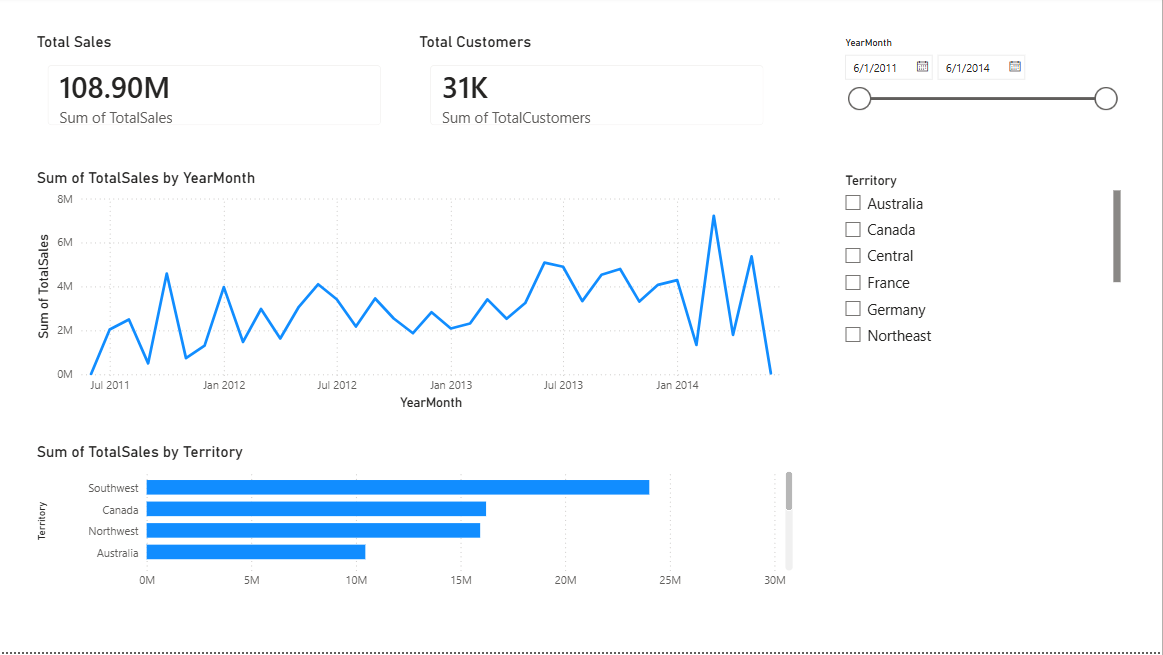

The page's visual inventory and layout, read from the dashboard file:
{"tool":"powerbi","page":{"name":"Page 1","canvas":[1280,720],"ordinal":0},"visuals":[{"type":"lineChart","fields":{"Category":["Query1.YearMonth"],"Y":["Sum(Query1.TotalSales)"]},"box":[40,190,840,270],"z":0},{"type":"cardVisual","title":"Total Sales","fields":{"Data":["Sum(Query1.TotalSales)"]},"box":[40,40,400,120],"z":1000},{"type":"cardVisual","title":"Total Customers","fields":{"Data":["Sum(Query1.TotalCustomers)"]},"box":[460,40,400,120],"z":2000},{"type":"clusteredBarChart","fields":{"Category":["Query1.Territory"],"Y":["Sum(Query1.TotalSales)"]},"box":[40,490,840,170],"z":3000},{"type":"slicer","fields":{"Values":["Query1.YearMonth"]},"box":[920,40,320,120],"z":4000},{"type":"slicer","fields":{"Values":["Query1.Territory"]},"box":[920,190,320,200],"z":5000}]}

Visuals, with their boxes in screenshot pixels (x1, y1, x2, y2), scaled from the page's 1280x720 canvas onto the 1163x655 screenshot:
lineChart - Query1.YearMonth x Sum(Query1.TotalSales): (36,173,800,418)
"Total Sales" cardVisual: (36,36,400,146)
"Total Customers" cardVisual: (418,36,781,146)
clusteredBarChart - Query1.Territory x Sum(Query1.TotalSales): (36,446,800,600)
slicer - Query1.YearMonth: (836,36,1127,146)
slicer - Query1.Territory: (836,173,1127,355)
